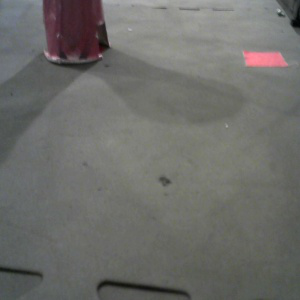Middle: (41, 1, 109, 64)
